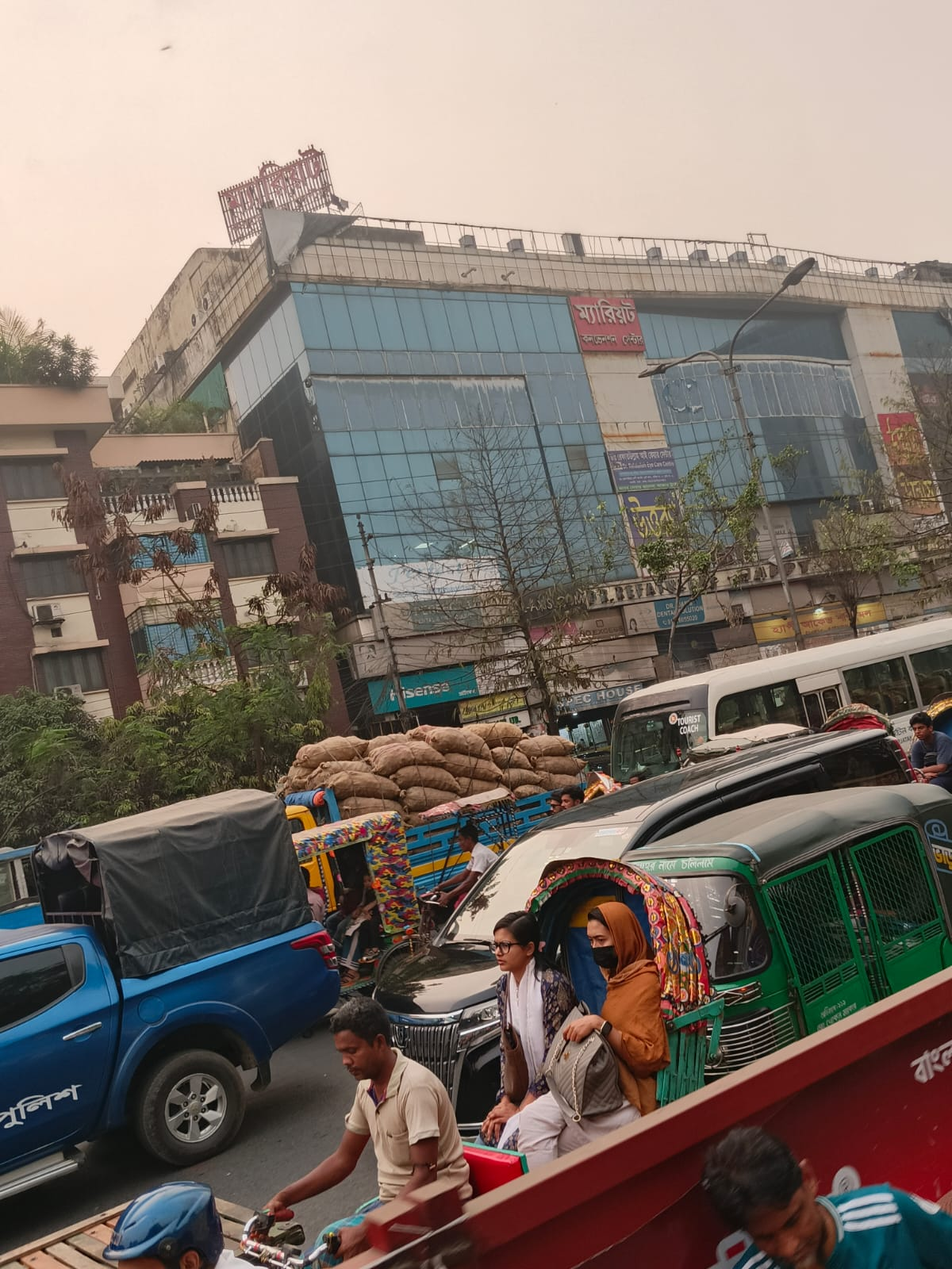Pickup: (232, 717, 607, 905)
Police cars: (0, 771, 311, 1207)
auto-ricksaw: (242, 865, 728, 1269), (284, 806, 422, 967), (900, 702, 952, 786)
cng: (626, 795, 952, 1063)
private car: (334, 720, 952, 1142), (607, 606, 952, 808)
